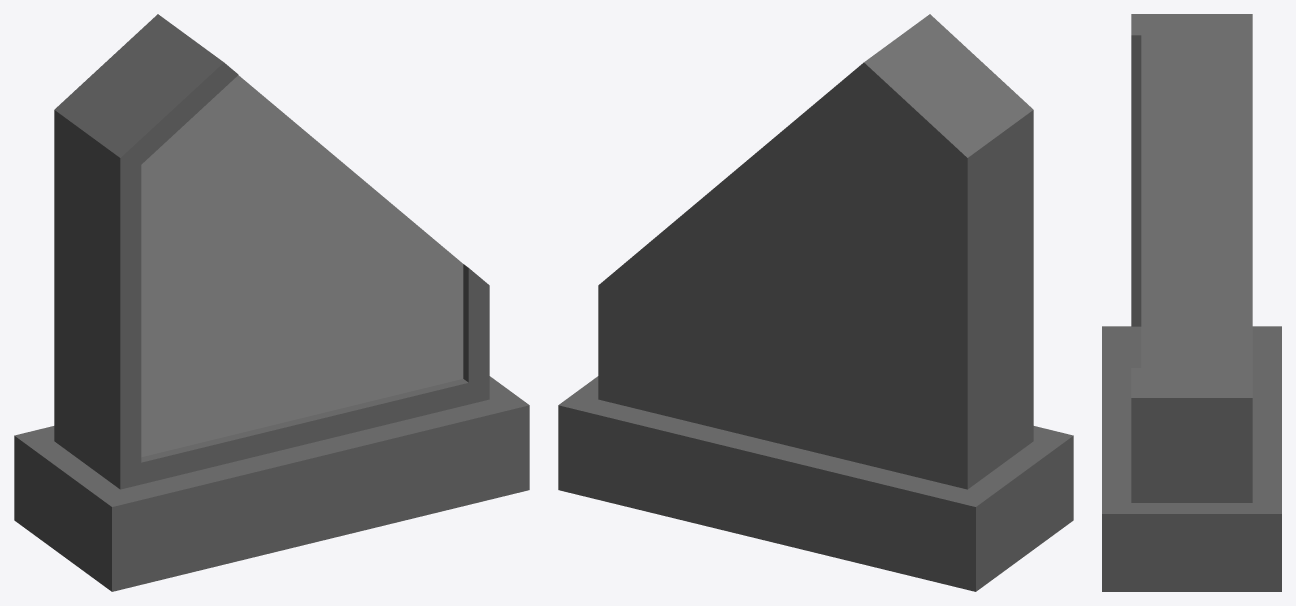
The model's file is Headstone_6_1.fbx.
3 renders of one model, left to right at view 1: azimuth 30°, elevation 25°; view 2: azimuth 150°, elevation 25°; view 3: azimuth 270°, elevation 25°, orthographic. The views are drawn at different scales.
Visible parts, largest first — view 1: Headstone_6_1; view 2: Headstone_6_1; view 3: Headstone_6_1.
Boxes of the visible parts, x1=… form: Headstone_6_1: x1=14, y1=14, x2=529, y2=591; Headstone_6_1: x1=558, y1=14, x2=1073, y2=591; Headstone_6_1: x1=1102, y1=14, x2=1281, y2=591.
Size of the model in its own units: 47.11 by 52.47 by 19.11.
